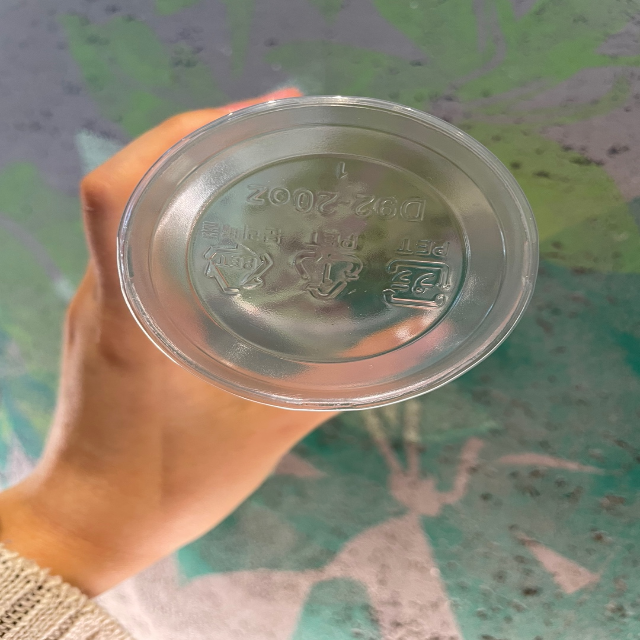pet: (196, 214, 289, 302), (381, 232, 457, 319), (293, 229, 370, 309)
